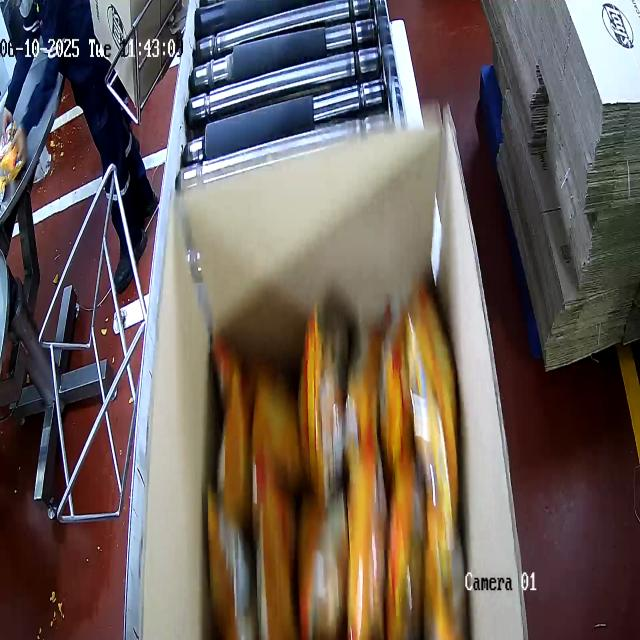FRENCH_CHEESE: (206, 318, 467, 640)
